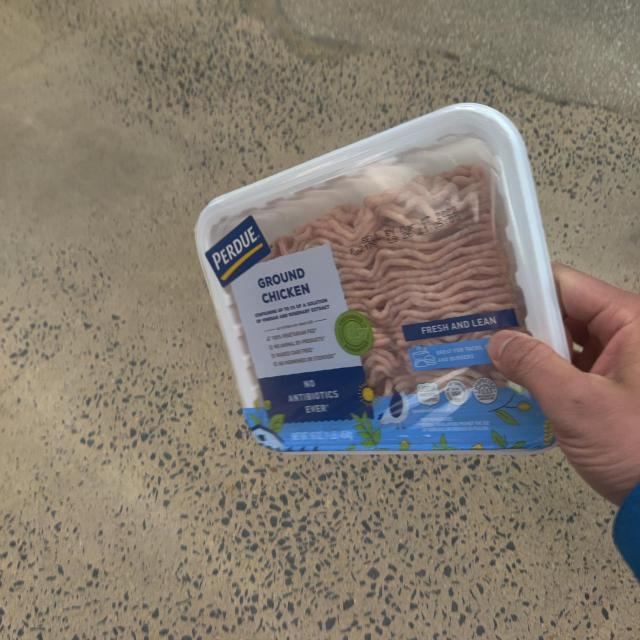Meat: (206, 100, 570, 454)
